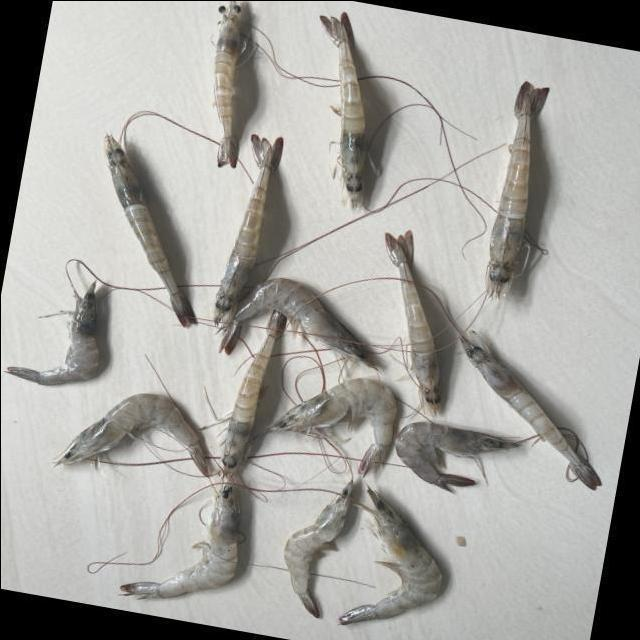shrimp: (460, 331, 601, 490), (102, 134, 195, 326), (219, 277, 377, 370), (337, 488, 441, 626), (118, 484, 238, 599), (486, 81, 549, 298), (212, 133, 282, 324), (262, 378, 396, 476), (54, 393, 208, 476), (220, 310, 285, 478), (384, 230, 440, 416), (5, 281, 97, 385), (283, 481, 352, 619), (319, 11, 366, 207), (395, 422, 520, 492), (212, 0, 240, 166)
